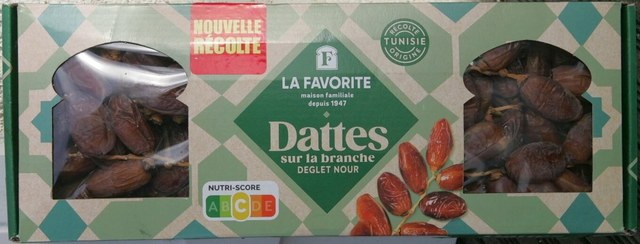Dattes: (32, 12, 608, 232)
